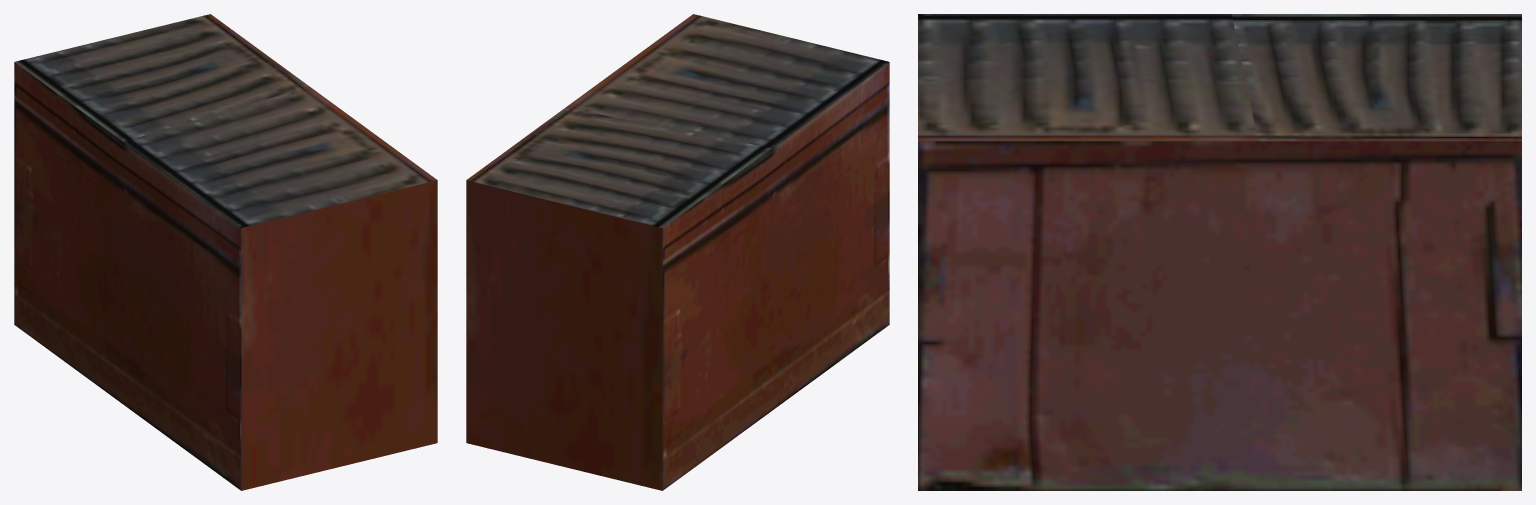
The model's file is TrashBin.glb.
The picture shows the model from 3 angles, left to right: view 1: azimuth 30°, elevation 25°; view 2: azimuth 150°, elevation 25°; view 3: azimuth 270°, elevation 25°; orthographic projection. The views are drawn at different scales.
Parts seen in each view (by area): view 1: Bin; view 2: Bin; view 3: Bin.
Boxes of the visible parts, x1,y1,x2,y2 form: Bin: (14,14,437,490); Bin: (466,14,889,490); Bin: (918,14,1521,490).
Bounding box in the file's own units: 2 × 2.56 × 4.01.
1 material, 1 textured.
